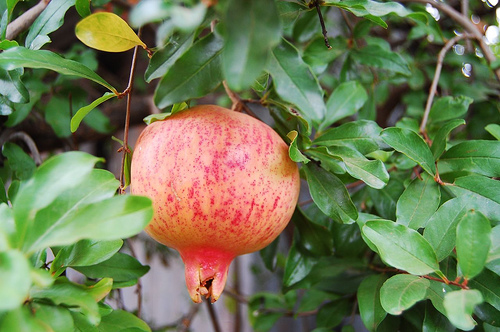pomogranate: (126, 104, 302, 304)
